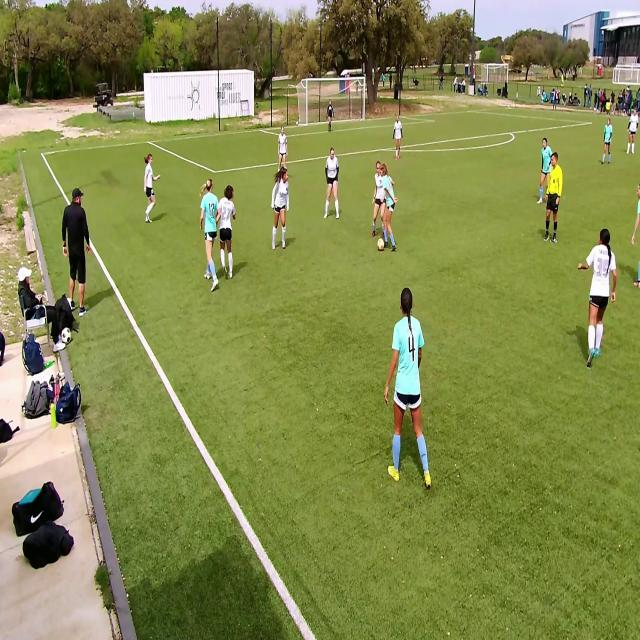ball: (376, 237, 383, 252)
team1: (386, 278, 432, 499), (199, 179, 221, 287), (382, 168, 400, 252), (539, 136, 554, 202), (630, 181, 639, 245), (604, 119, 615, 166)
team2: (585, 225, 619, 367), (218, 183, 236, 283), (271, 167, 291, 251), (372, 162, 389, 244), (324, 148, 341, 222), (142, 156, 157, 226), (276, 126, 288, 172), (627, 110, 638, 155), (394, 116, 405, 160)
